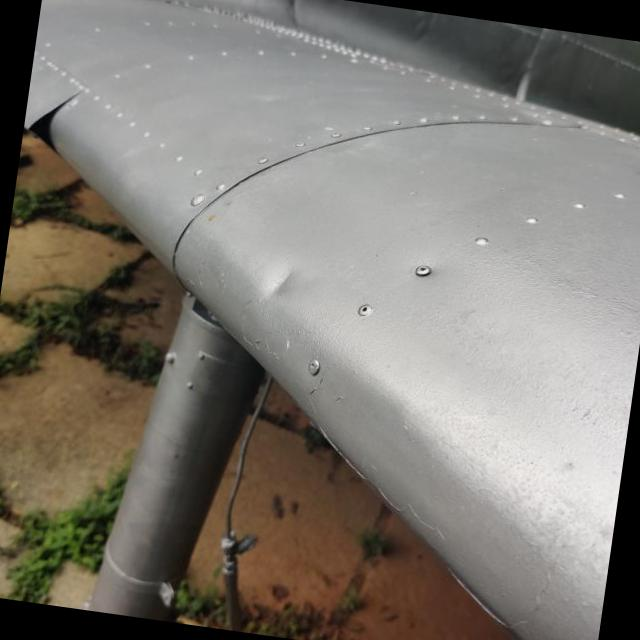Dent: (218, 239, 326, 342)
